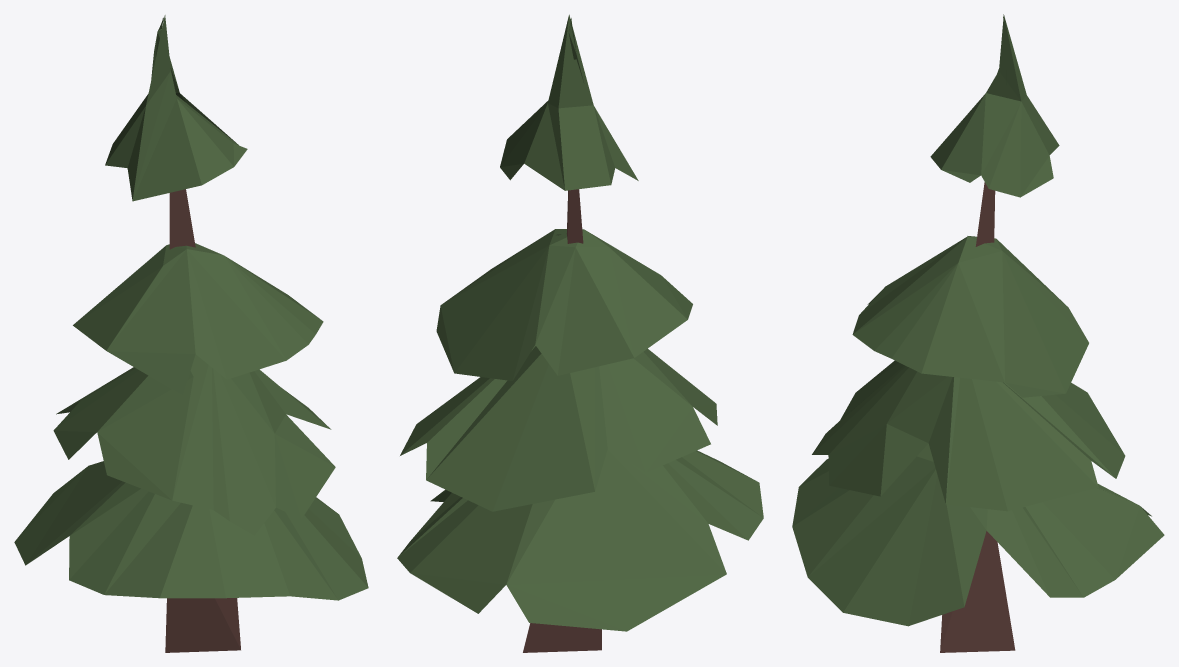
File: PineTree_2_lod.glb
The picture shows the model from 3 angles, left to right: view 1: azimuth 30°, elevation 25°; view 2: azimuth 150°, elevation 25°; view 3: azimuth 270°, elevation 25°; orthographic projection. The views are drawn at different scales.
Parts seen in each view (by area): view 1: PineTree_2; view 2: PineTree_2; view 3: PineTree_2.
Part boxes in pixels (x1,y1,x2,y2): PineTree_2: (14,15,368,652); PineTree_2: (397,14,763,652); PineTree_2: (792,14,1164,652).
Size of the model in its own units: 1.8 by 3.56 by 1.95.
